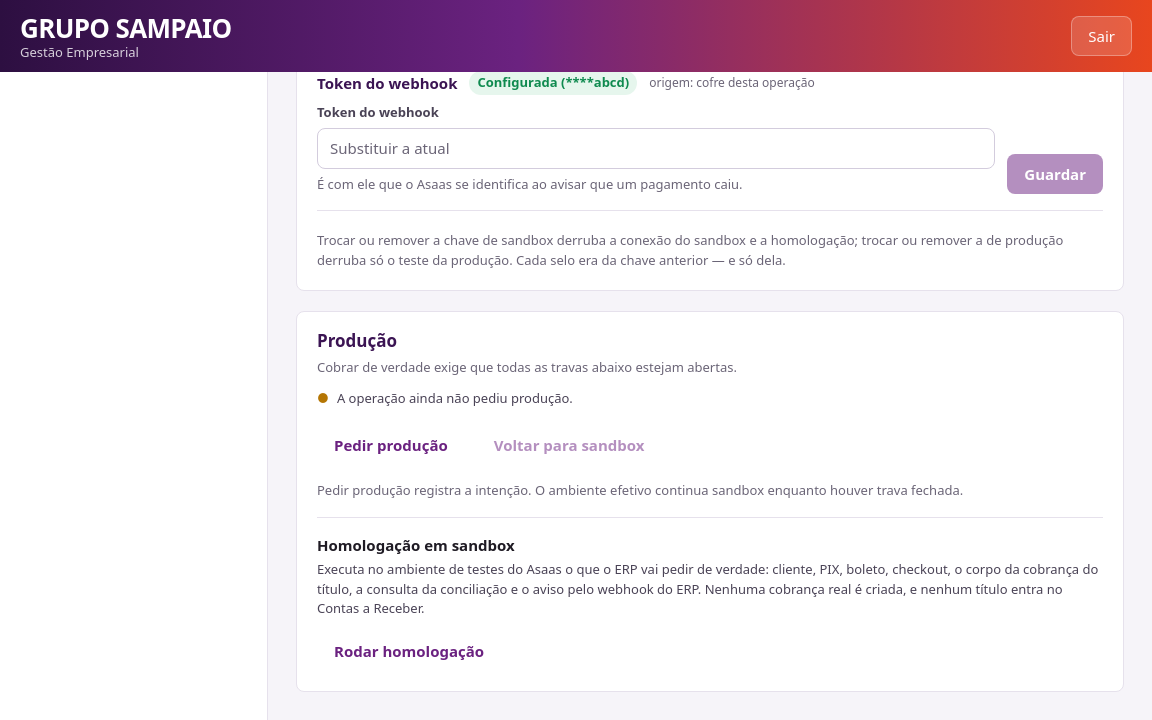
Test: GAP-PRD-169 — a tela da homologação diz o que foi executado › homologação que passa aparece como concluída (antes: "não passou")
(page scrolled)
Click the button "Rodar homologação". click: (409, 651)
box: x1=317 y1=630 x2=501 y2=671
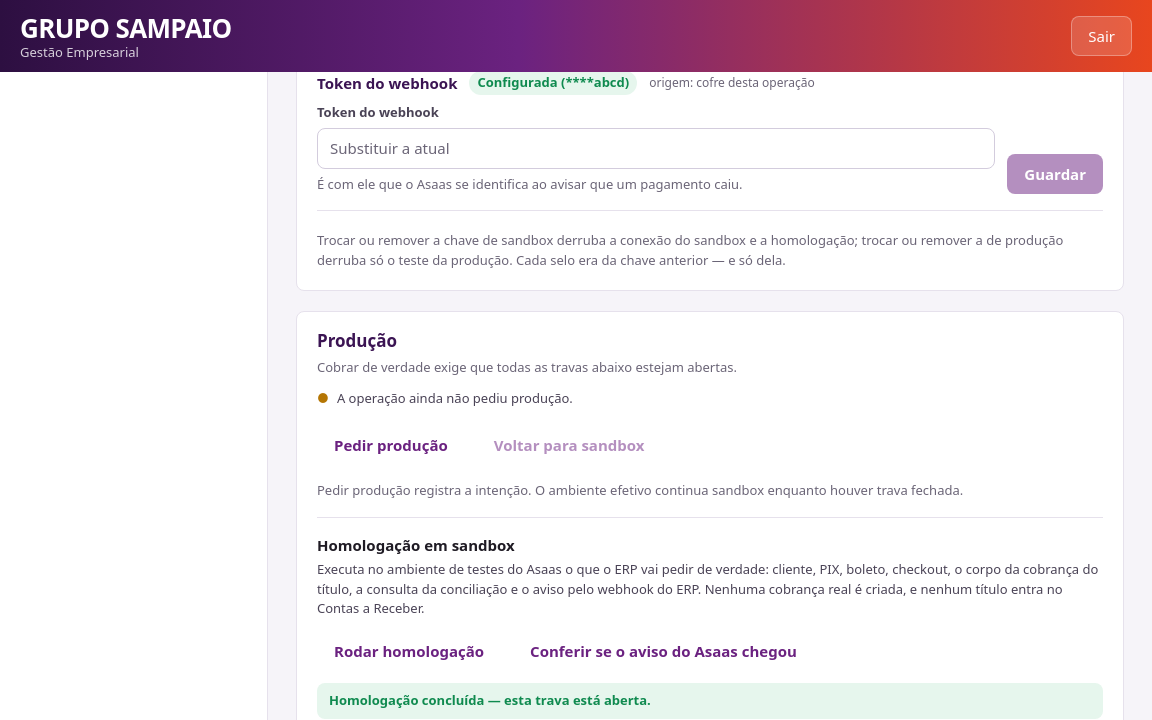
Expected: the text "Homologação concluída — esta trava está aberta." is shown, x1=317 y1=683 x2=1103 y2=718
